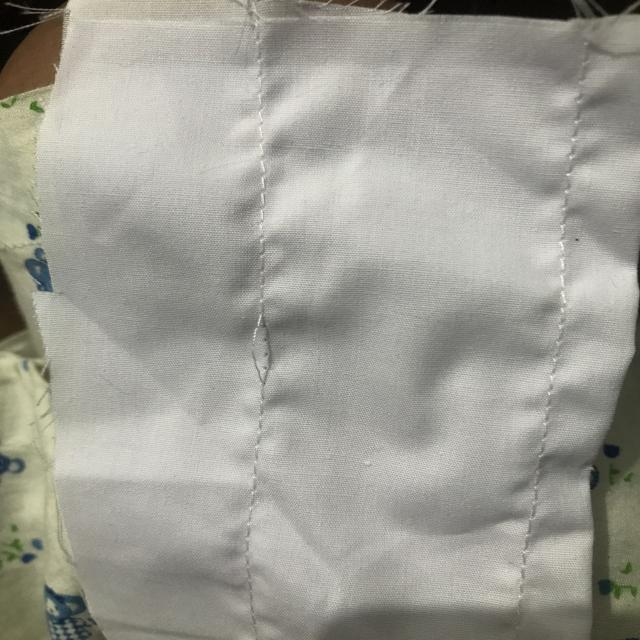good: (246, 173, 279, 273)
skip: (234, 297, 286, 401)
